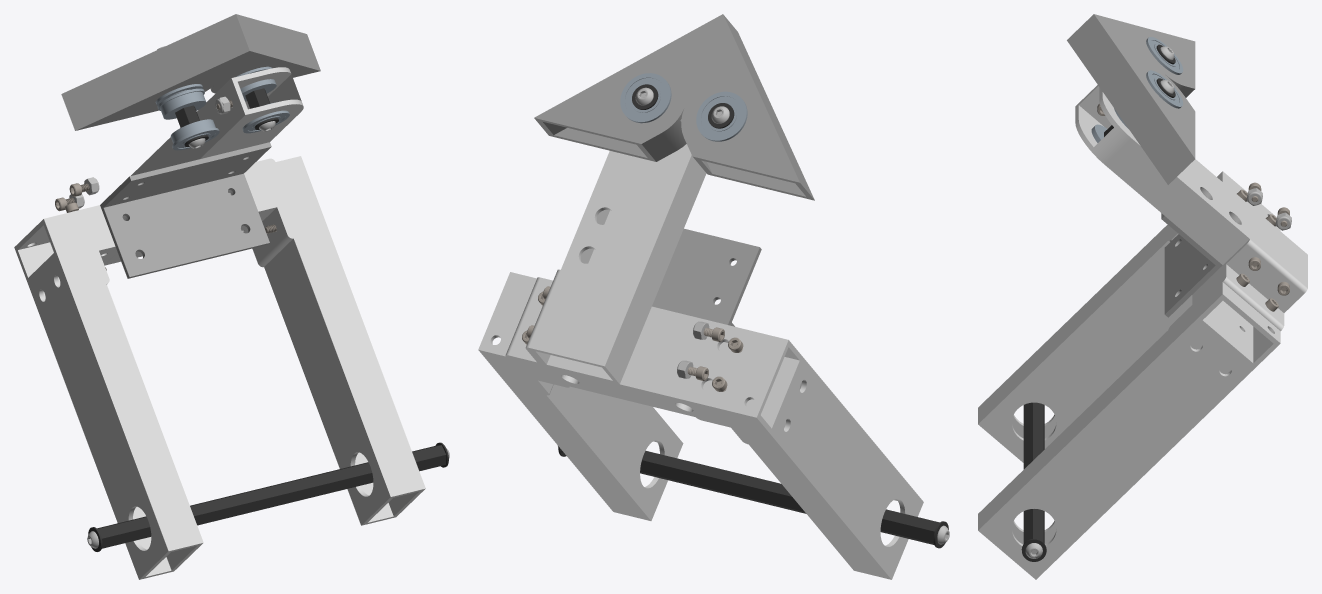
3 views of the same model, side by side, from view 1: azimuth 30°, elevation 25°; view 2: azimuth 150°, elevation 25°; view 3: azimuth 270°, elevation 25° (orthographic). The views are drawn at different scales.
Parts seen in each view (by area): view 1: Tube 2"x1"x8" (×2), Part 14, Tube 2"x1"x4.95" (×2), Shaft (×3), Tube 2"x1"x7.325", Tube 2"x1"x7.084", .5" Hex ID 1.125" OD Flanged Bearing (217-2734) (×2), 2x1 Angle; view 2: Tube 2"x1"x8" (×2), Tube 2"x1"x7.084", Tube 2"x1"x4.95" (×2), Tube 2"x1"x7.325", Part 14, Shaft, .5" Hex ID 1.125" OD Flanged Bearing (217-2734) (×2), 2x1 Angle w/ Raised Holes; view 3: Tube 2"x1"x8" (×2), Tube 2"x1"x7.084", Tube 2"x1"x4.95" (×2), Tube 2"x1"x7.325", 2x1 Angle w/ Raised Holes, Part 14, Shaft, .5" Hex ID 1.125" OD Flanged Bearing (217-2734) (×2).
Part boxes in pixels (x1,y1,x2,y2): Tube 2"x1"x8" (×2): (28,193,425,579); Part 14: (100,142,271,278); Tube 2"x1"x4.95" (×2): (61,14,320,130); Shaft (×3): (87,46,449,551); Tube 2"x1"x7.325": (14,156,314,283); Tube 2"x1"x7.084": (131,67,303,175); .5" Hex ID 1.125" OD Flanged Bearing (217-2734) (×2): (157,88,219,150); 2x1 Angle: (241,201,293,267); Tube 2"x1"x8" (×2): (493,358,923,579); Tube 2"x1"x7.084": (529,144,706,384); Tube 2"x1"x4.95" (×2): (534,14,814,200); Tube 2"x1"x7.325": (478,272,803,435); Part 14: (652,228,761,326); Shaft: (557,445,949,548); .5" Hex ID 1.125" OD Flanged Bearing (217-2734) (×2): (620,73,747,141); 2x1 Angle w/ Raised Holes: (505,269,560,365); Tube 2"x1"x8" (×2): (978,224,1253,579); Tube 2"x1"x7.084": (1075,85,1307,287); Tube 2"x1"x4.95" (×2): (1067,14,1195,184); Tube 2"x1"x7.325": (1195,171,1280,369); 2x1 Angle w/ Raised Holes: (1222,239,1307,330); Part 14: (1161,213,1222,317); Shaft: (1021,402,1046,561); .5" Hex ID 1.125" OD Flanged Bearing (217-2734) (×2): (1146,37,1183,108).
Bounding box in the file's own units: 0.2584 × 0.3549 × 0.2108.
